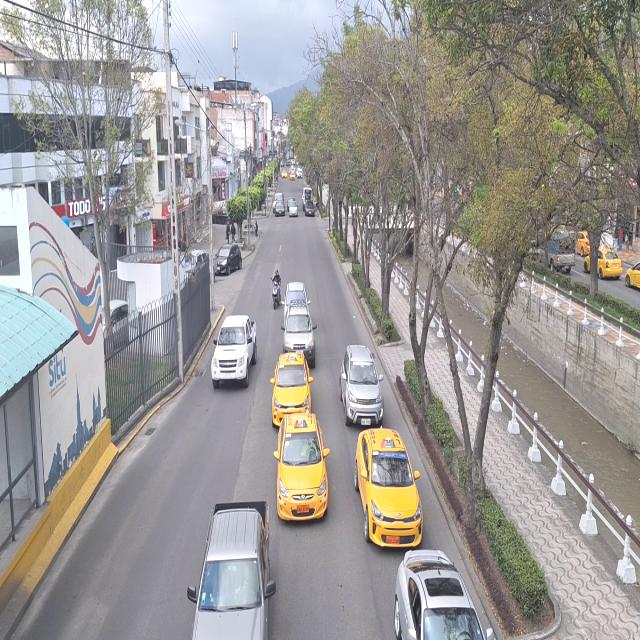CMT: (190, 493, 275, 640), (212, 312, 260, 386)
MOTORCYCLE: (271, 278, 281, 310)
